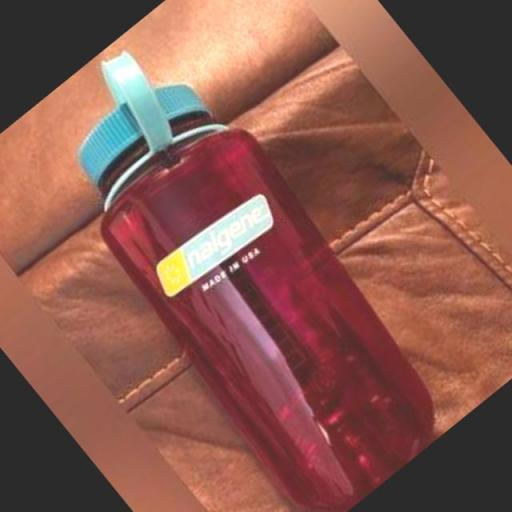bottle: (0, 18, 475, 512)
